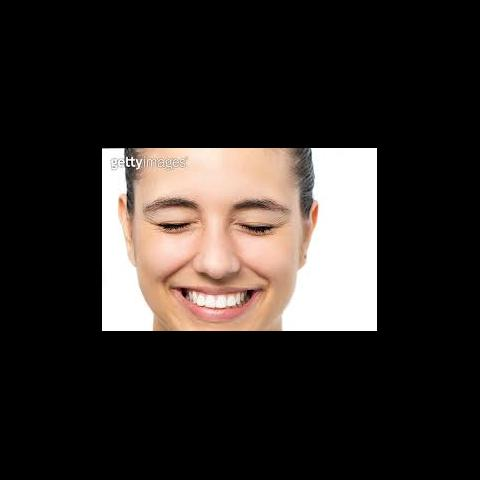closed: (138, 188, 296, 246)
